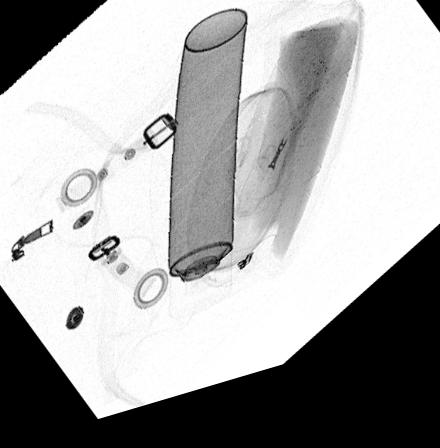Sprayer: (167, 22, 248, 330)
